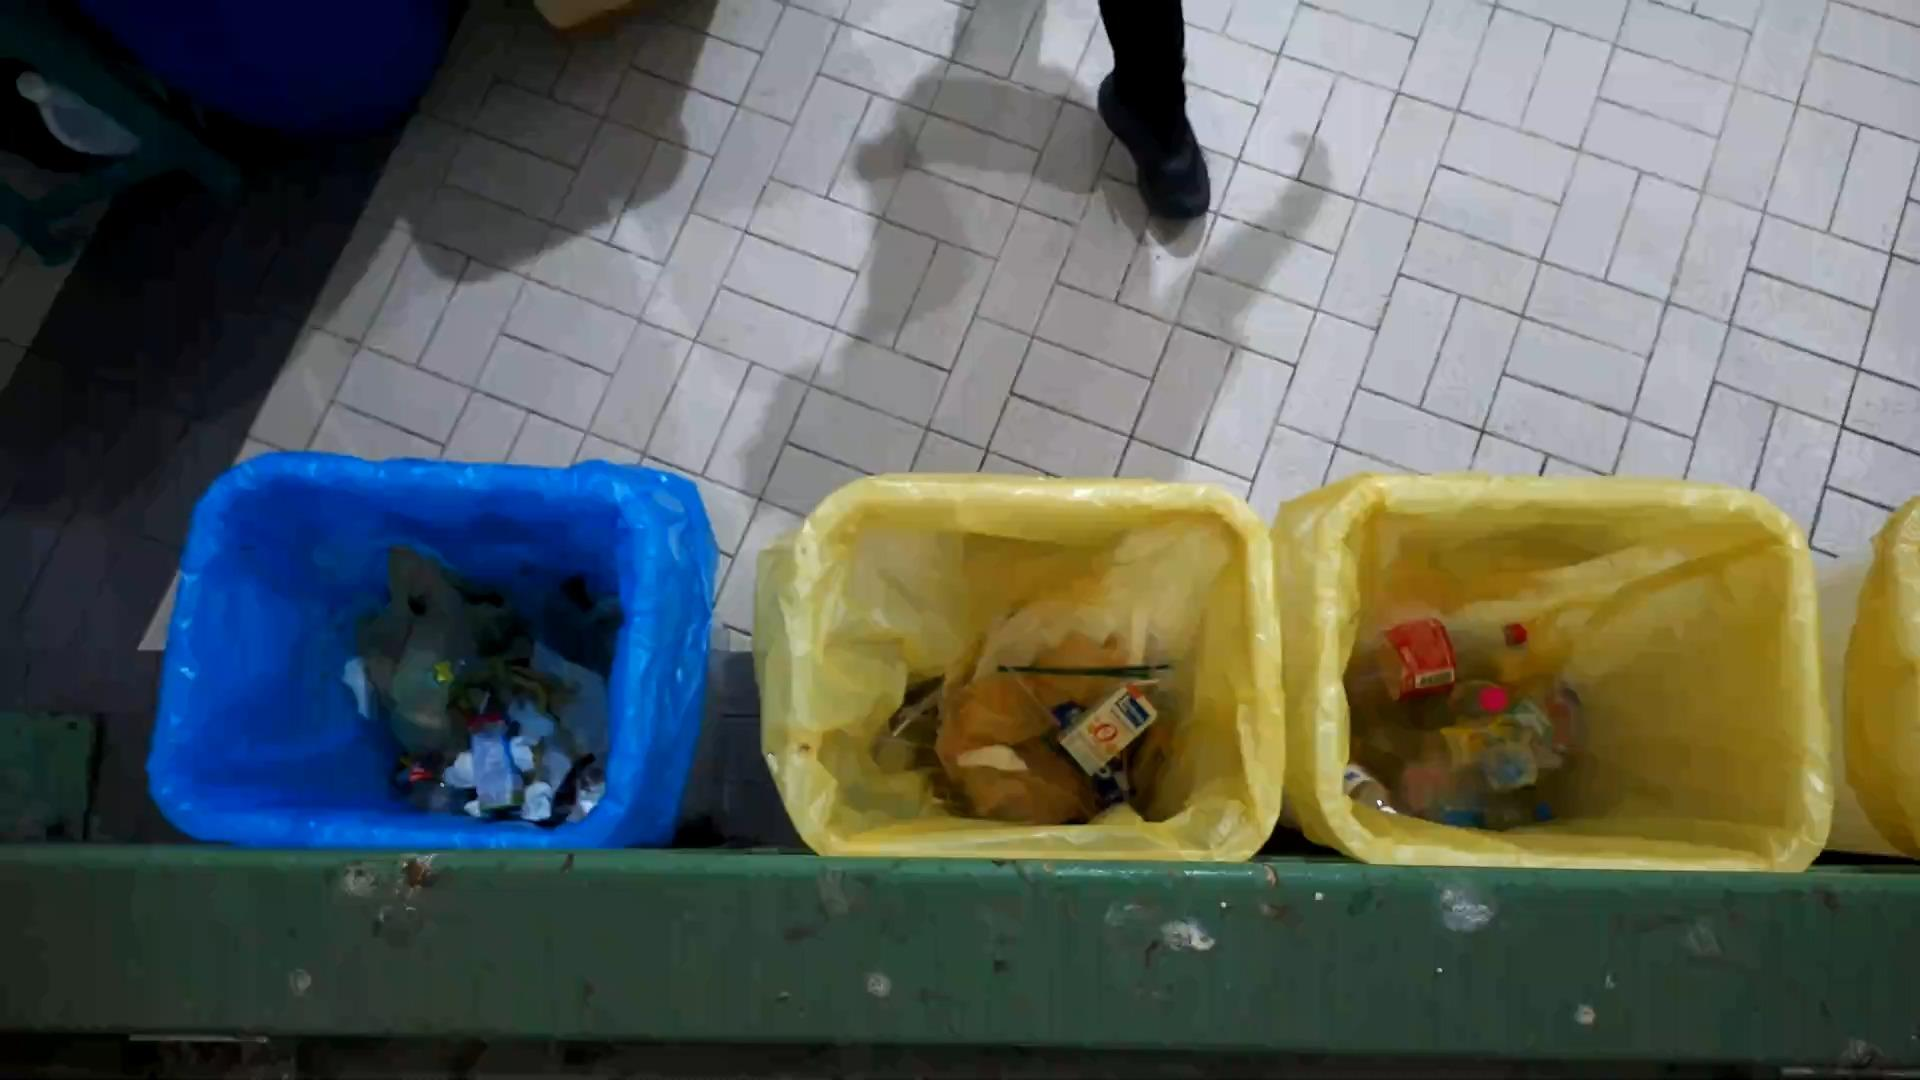filled plastic bag: (339, 538, 526, 761)
milk carton: (1055, 678, 1163, 777), (465, 712, 534, 812)
plastic bag: (963, 596, 1154, 695)
plastic bottle: (1342, 607, 1538, 709), (1398, 737, 1569, 808), (1493, 671, 1588, 785), (1423, 673, 1516, 733)
snack packaging: (425, 647, 512, 695), (389, 750, 450, 789)
straw: (890, 666, 965, 736), (1000, 661, 1060, 729), (1030, 764, 1110, 798), (996, 666, 1153, 679), (998, 659, 1172, 671), (872, 732, 972, 748), (1133, 676, 1160, 686)
tissue paper: (522, 632, 600, 698), (506, 691, 555, 774), (339, 651, 381, 715), (955, 741, 1031, 773), (579, 778, 624, 818), (526, 781, 563, 824), (443, 749, 479, 786), (463, 796, 493, 815)
